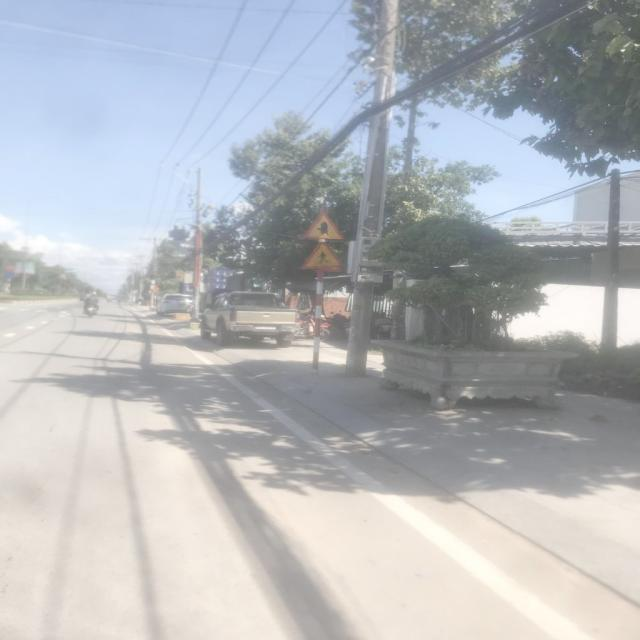207-giao-nhau-voi-duong-khong-uu-tien: (302, 210, 346, 240)
224-duong-nguoi-di-bo-cat-ngang: (302, 244, 342, 272)
